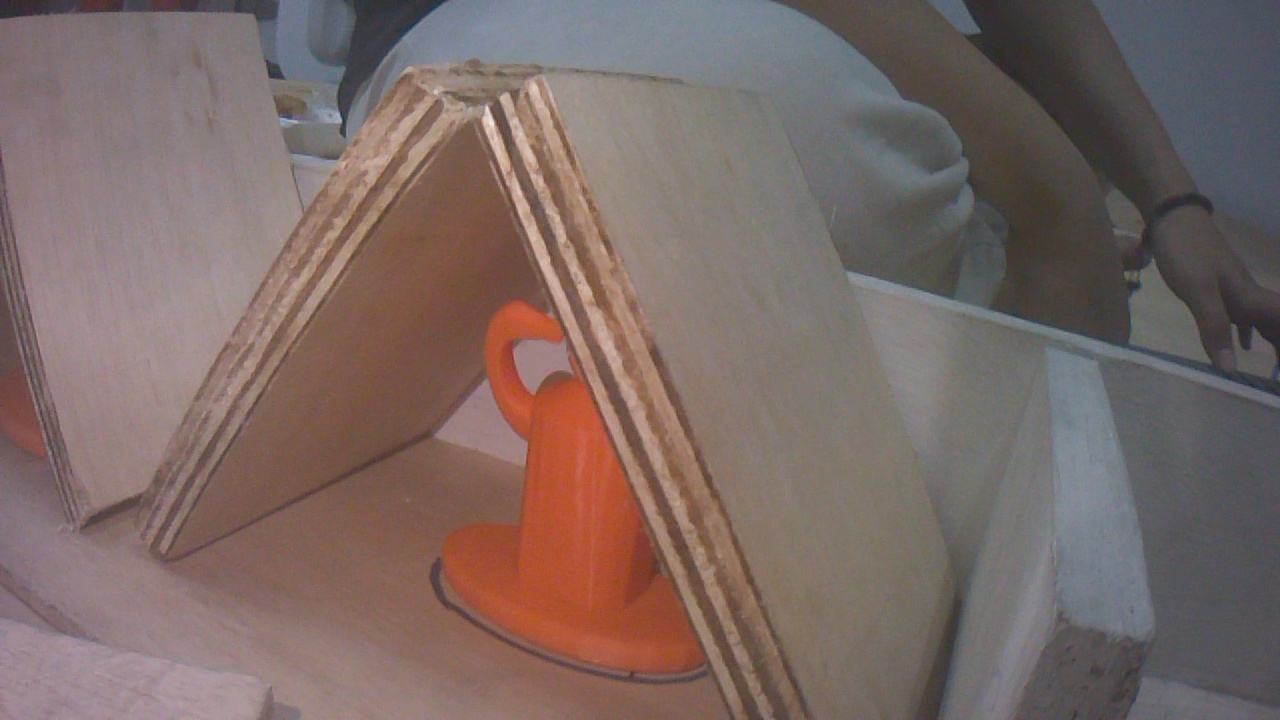real: (448, 272, 710, 681)
